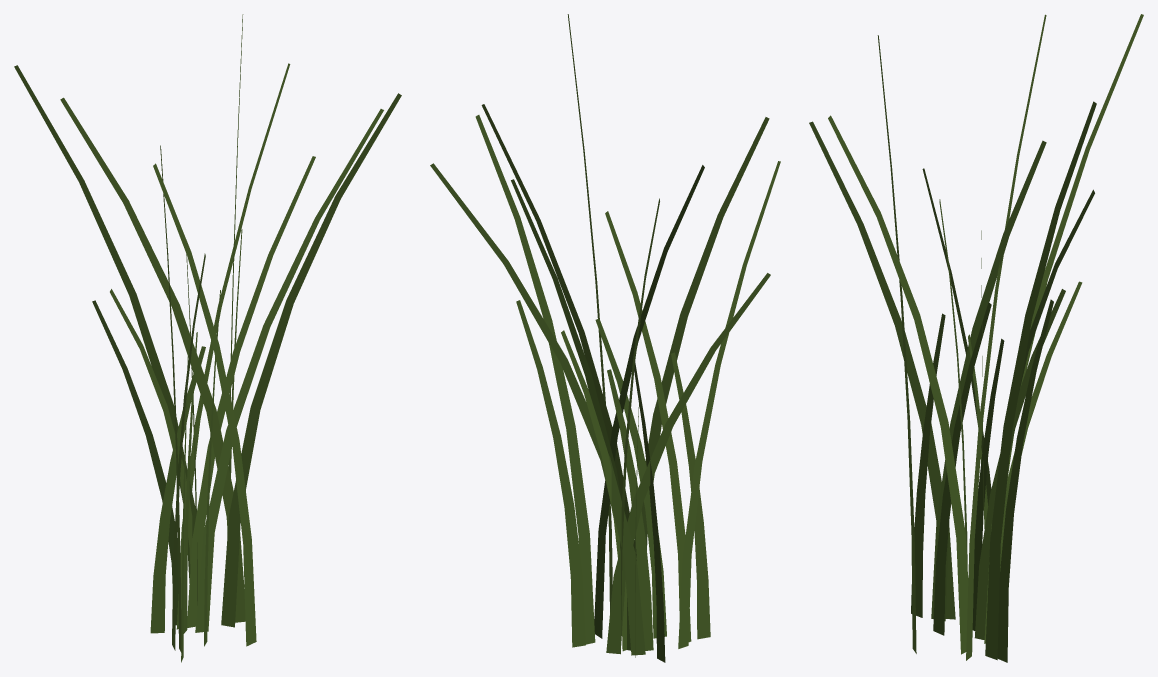
Rendered from herbier.glb.
The picture shows the model from 3 angles, left to right: view 1: azimuth 30°, elevation 25°; view 2: azimuth 150°, elevation 25°; view 3: azimuth 270°, elevation 25°; orthographic projection. The views are drawn at different scales.
Visible parts, largest first — view 1: herbier; view 2: herbier; view 3: herbier.
Boxes of the visible parts, box(x1,y1,x2,y2) form: herbier: box(14, 14, 401, 662); herbier: box(430, 14, 780, 662); herbier: box(809, 14, 1143, 662).
Size of the model in its own units: 0.3178 by 0.5956 by 0.3049.
